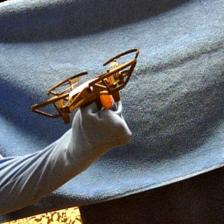drone: (30, 48, 139, 122)
